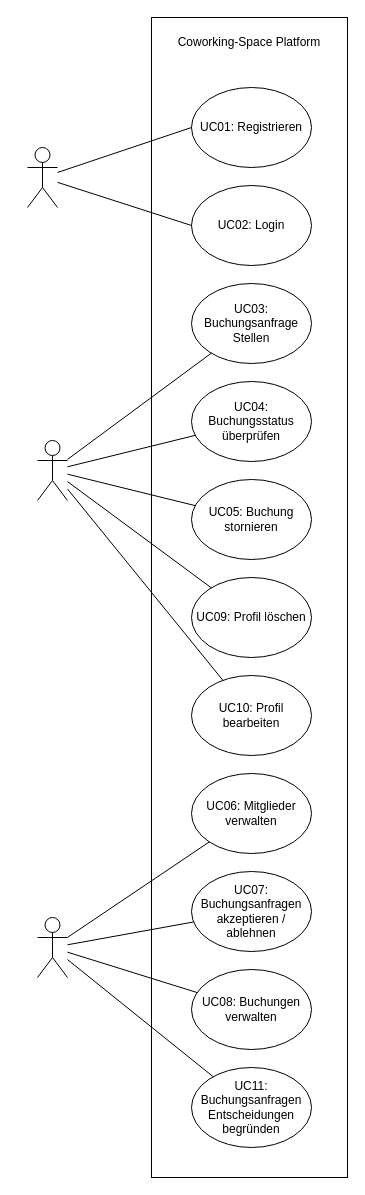
Image size: 365x1195. Some labels were removed from this diagram. The shapes that lost their labels are listed below. From the top down, each one's box as (x1, y1, x2, y2) in pixels, then its label:
(26, 146, 58, 208): Besucher
(36, 440, 68, 500): Mitglied
(36, 916, 68, 978): Admin
